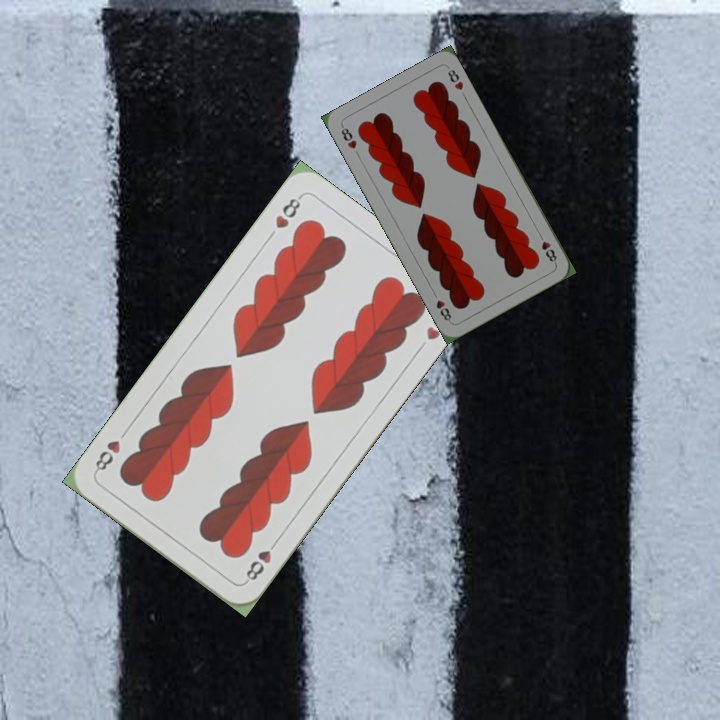H8: (242, 535, 281, 586), (271, 191, 305, 231), (534, 229, 559, 266), (337, 122, 359, 151)
